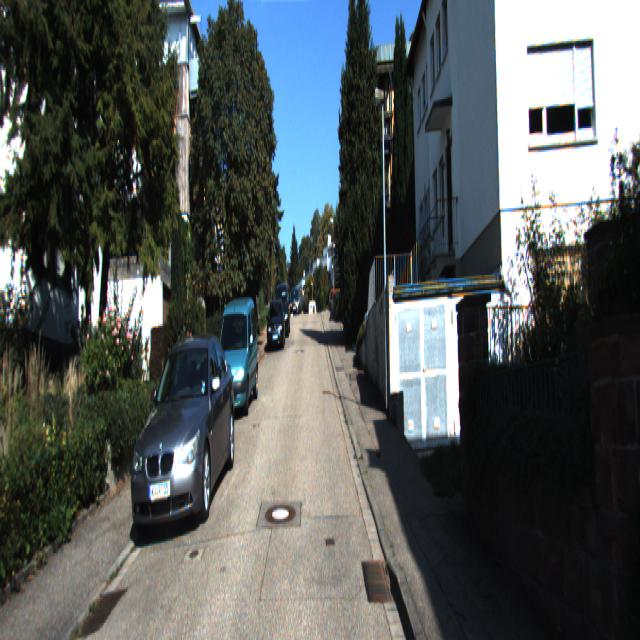Car: (124, 331, 238, 541), (210, 296, 260, 419), (273, 283, 290, 338), (267, 300, 286, 349)
